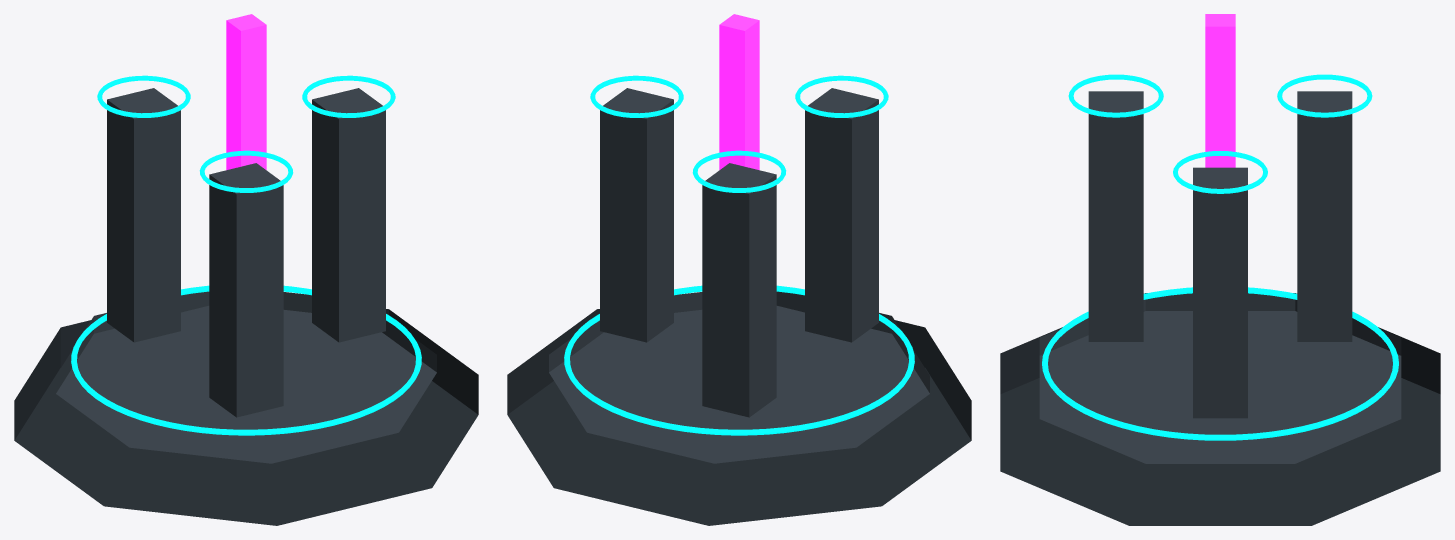
Rendered from district_monitoring.glb.
The picture shows the model from 3 angles, left to right: view 1: azimuth 30°, elevation 25°; view 2: azimuth 150°, elevation 25°; view 3: azimuth 270°, elevation 25°; orthographic projection.
Parts seen in each view (by area): view 1: district_monitoring_upper_plate, district_monitoring_octagonal_base, district_monitoring_watchtower_1, district_monitoring_watchtower_0, district_monitoring_watchtower_2, district_monitoring_central_scan_beam, district_monitoring_base_cyan_circuit, district_monitoring_sensor_crown_0, district_monitoring_sensor_crown_1, district_monitoring_sensor_crown_2; view 2: district_monitoring_upper_plate, district_monitoring_octagonal_base, district_monitoring_watchtower_2, district_monitoring_watchtower_0, district_monitoring_watchtower_1, district_monitoring_central_scan_beam, district_monitoring_base_cyan_circuit, district_monitoring_sensor_crown_0, district_monitoring_sensor_crown_2, district_monitoring_sensor_crown_1; view 3: district_monitoring_upper_plate, district_monitoring_octagonal_base, district_monitoring_watchtower_1, district_monitoring_watchtower_2, district_monitoring_watchtower_0, district_monitoring_central_scan_beam, district_monitoring_base_cyan_circuit, district_monitoring_sensor_crown_1, district_monitoring_sensor_crown_2, district_monitoring_sensor_crown_0.
Boxes of the visible parts, x1,y1,x2,y2 form: district_monitoring_upper_plate: [56, 291, 436, 463]; district_monitoring_octagonal_base: [14, 309, 478, 525]; district_monitoring_watchtower_1: [209, 163, 283, 417]; district_monitoring_watchtower_0: [312, 88, 385, 342]; district_monitoring_watchtower_2: [107, 88, 180, 342]; district_monitoring_central_scan_beam: [226, 14, 266, 170]; district_monitoring_base_cyan_circuit: [71, 285, 421, 435]; district_monitoring_sensor_crown_0: [302, 75, 395, 117]; district_monitoring_sensor_crown_1: [199, 150, 293, 192]; district_monitoring_sensor_crown_2: [97, 75, 190, 117]; district_monitoring_upper_plate: [549, 291, 929, 463]; district_monitoring_octagonal_base: [507, 309, 971, 525]; district_monitoring_watchtower_2: [702, 163, 776, 417]; district_monitoring_watchtower_0: [600, 88, 673, 342]; district_monitoring_watchtower_1: [805, 88, 878, 342]; district_monitoring_central_scan_beam: [719, 14, 759, 170]; district_monitoring_base_cyan_circuit: [564, 285, 914, 435]; district_monitoring_sensor_crown_0: [590, 75, 683, 117]; district_monitoring_sensor_crown_2: [692, 150, 786, 192]; district_monitoring_sensor_crown_1: [795, 75, 888, 117]; district_monitoring_upper_plate: [1039, 293, 1401, 463]; district_monitoring_octagonal_base: [1000, 327, 1440, 525]; district_monitoring_watchtower_1: [1088, 91, 1143, 341]; district_monitoring_watchtower_2: [1297, 91, 1352, 341]; district_monitoring_watchtower_0: [1193, 167, 1247, 418]; district_monitoring_central_scan_beam: [1205, 14, 1235, 167]; district_monitoring_base_cyan_circuit: [1042, 287, 1398, 440]; district_monitoring_sensor_crown_1: [1068, 74, 1163, 117]; district_monitoring_sensor_crown_2: [1277, 74, 1372, 117]; district_monitoring_sensor_crown_0: [1173, 151, 1267, 193].
Bounding box in the file's own units: 1.76 × 1.82 × 1.76.
